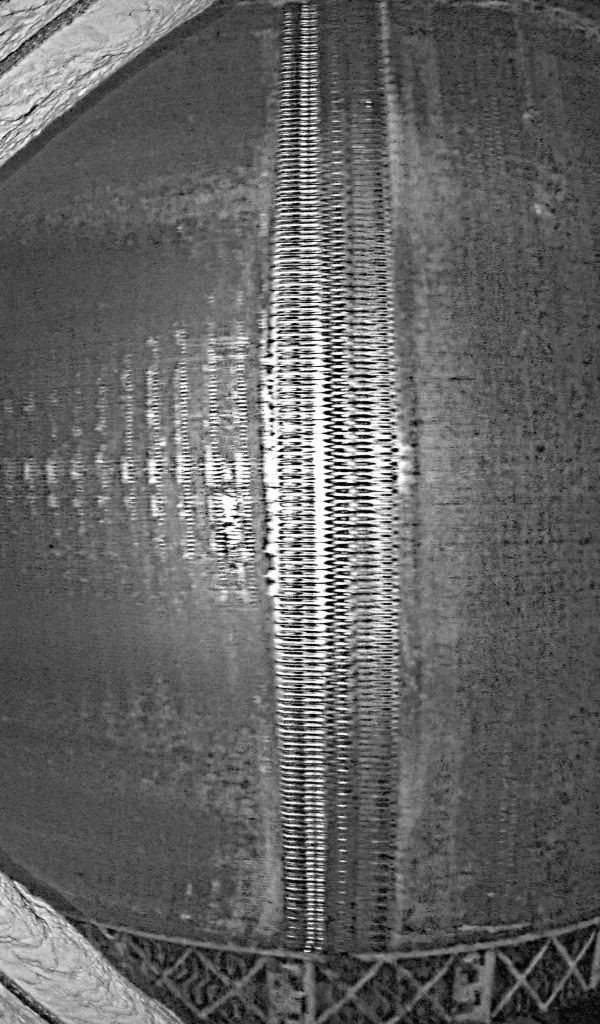splice: (253, 1, 415, 949)
